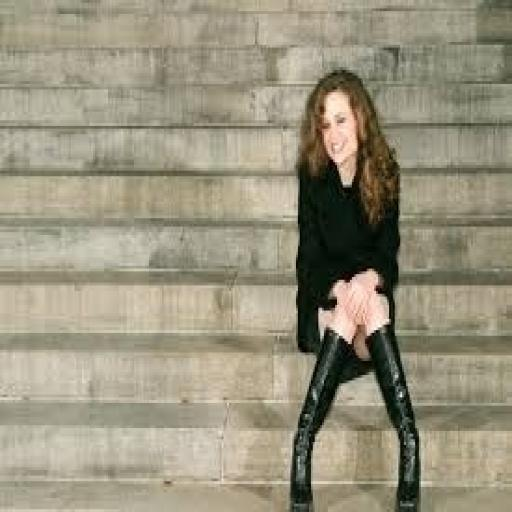sitting: (283, 64, 426, 510)
